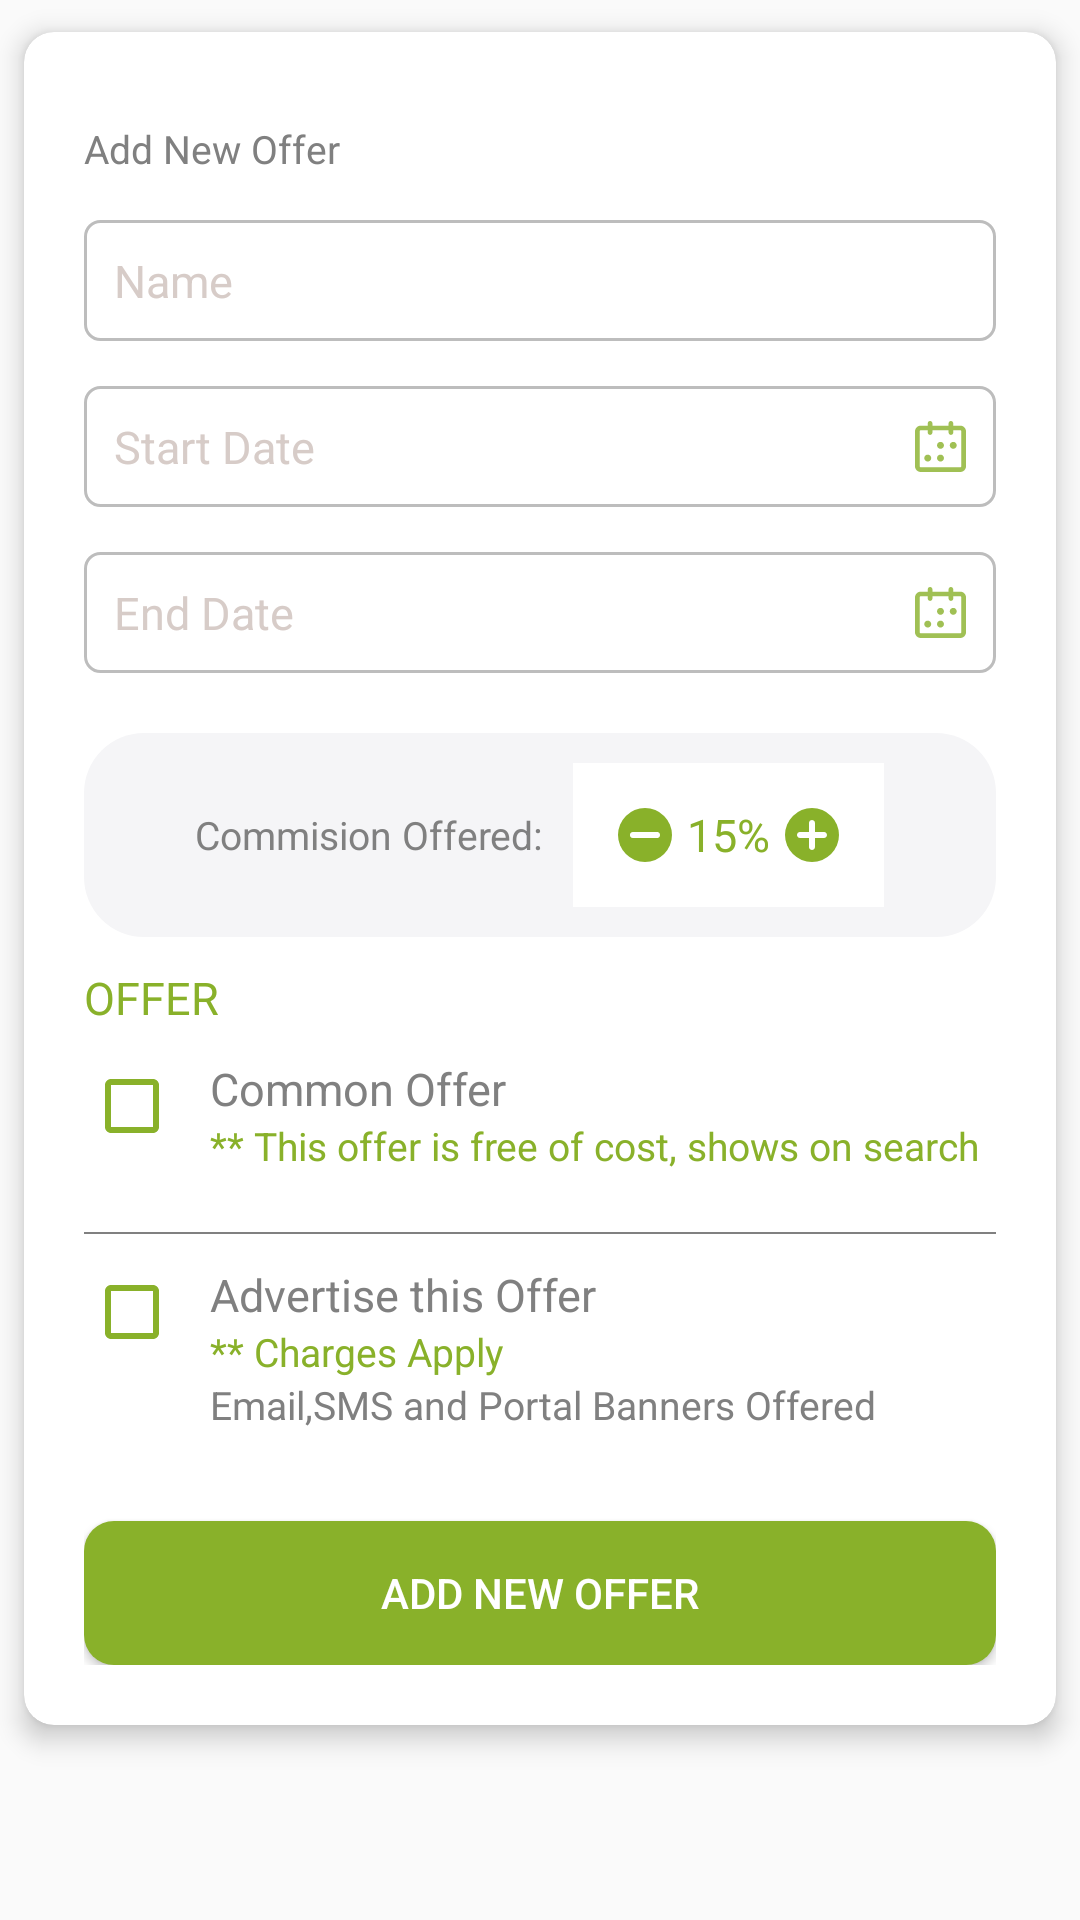

Screen size 1080x1920. Icon name, then its box in pixels as (x1, y1, x2, y2):
minus: (618, 808, 672, 862)
plus: (785, 808, 839, 862)
